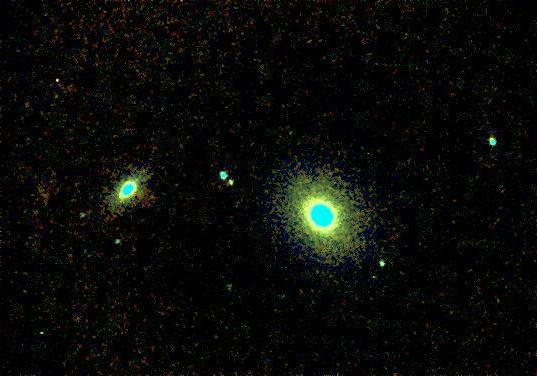star: (354, 136, 384, 166)
